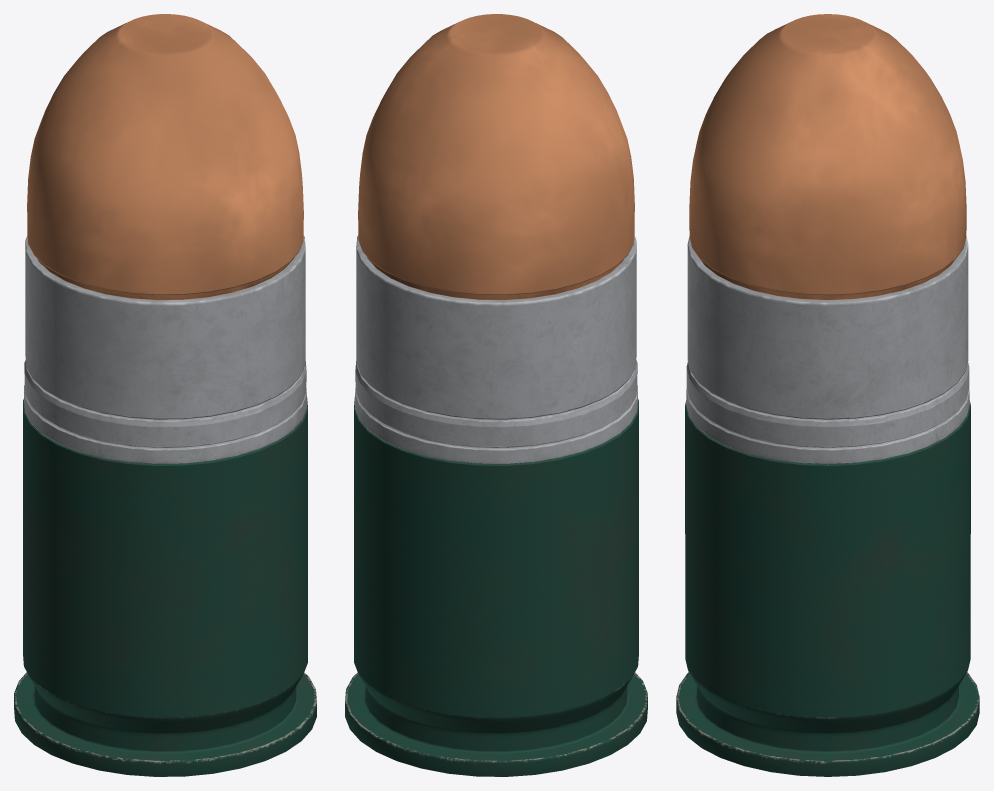
The model's file is grenade-2-1.gltf.
The picture shows the model from 3 angles, left to right: view 1: azimuth 30°, elevation 25°; view 2: azimuth 150°, elevation 25°; view 3: azimuth 270°, elevation 25°; orthographic projection.
Parts seen in each view (by area): view 1: _Mesh; view 2: _Mesh; view 3: _Mesh.
Boxes of the visible parts, x1,y1,x2,y2 form: _Mesh: [14, 14, 316, 776]; _Mesh: [345, 14, 647, 776]; _Mesh: [676, 14, 979, 776].
Size of the model in its own units: 40 by 99 by 40.
Materials: 1 (1 with a texture image).
